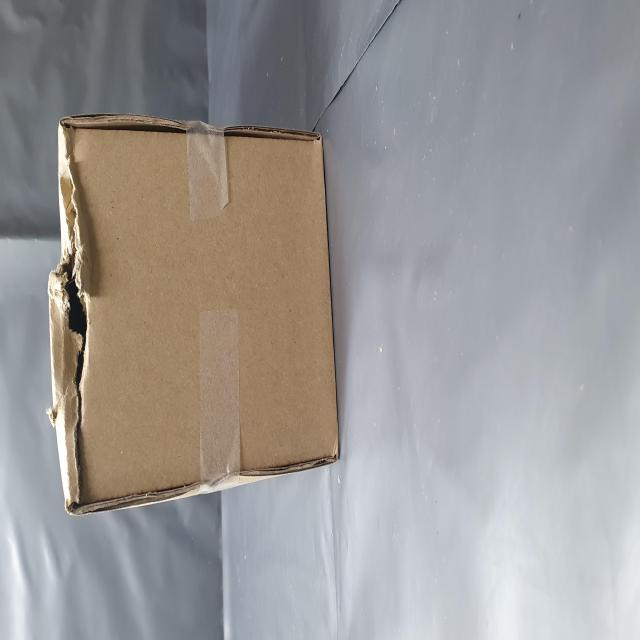damaged: (107, 104, 259, 154)
